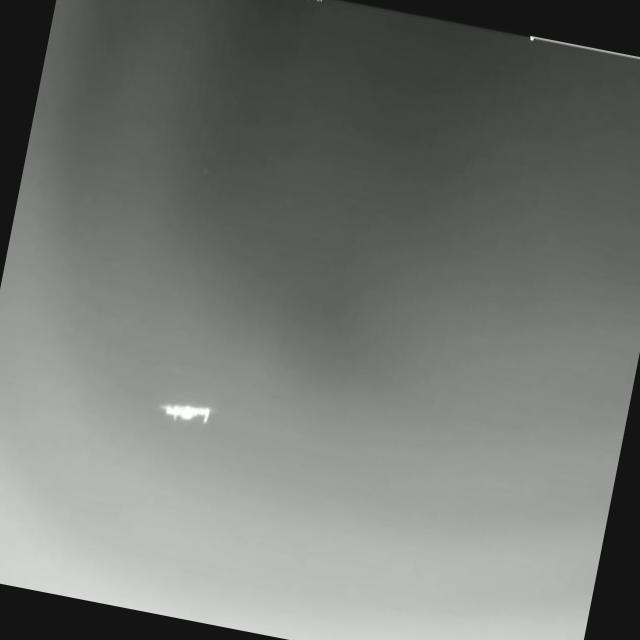DRONE: (146, 388, 222, 439)
